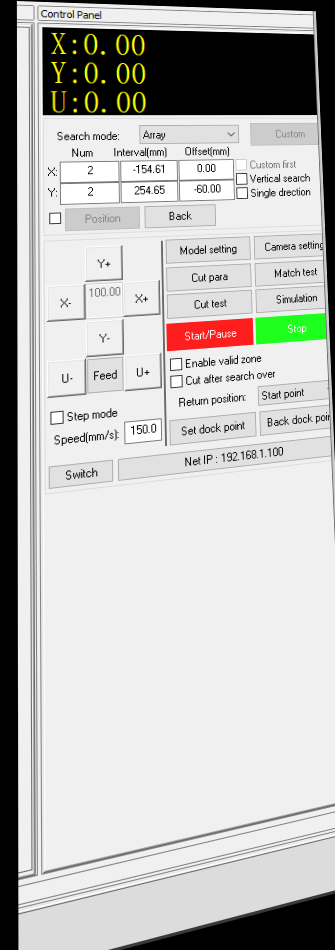start: (166, 322, 254, 347)
timer: (179, 146, 234, 200)
